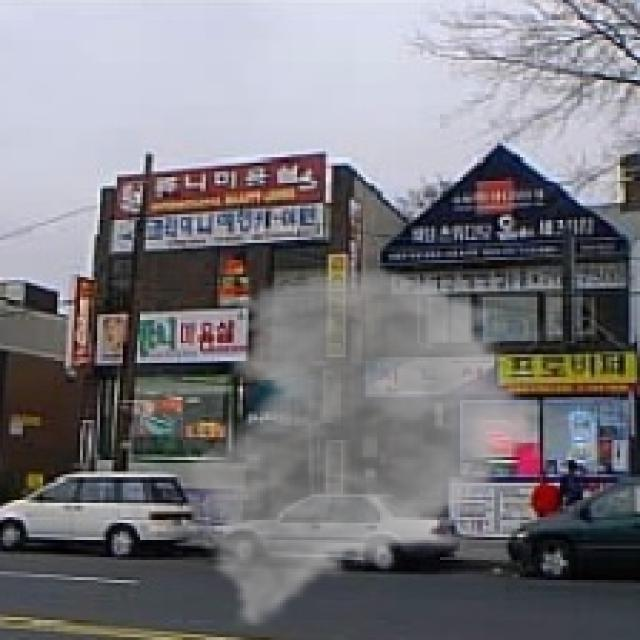smoke: (177, 263, 552, 631)
